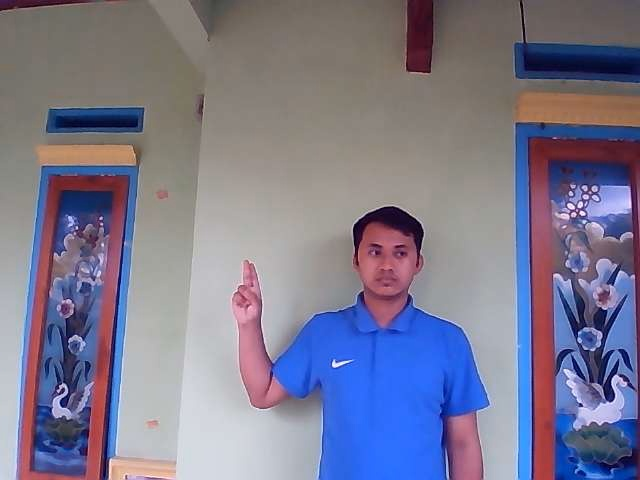U: (231, 258, 263, 323)
